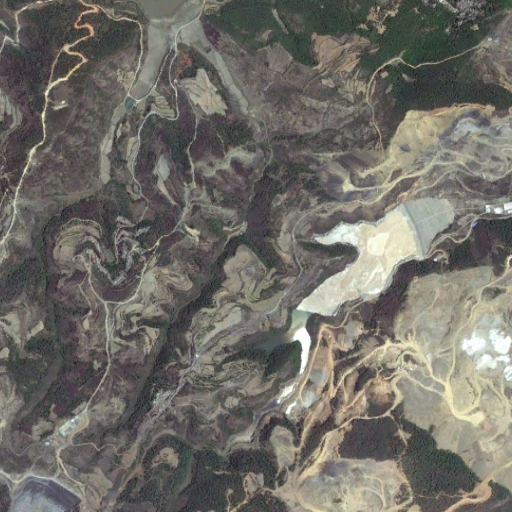tp: (255, 197, 456, 357)
